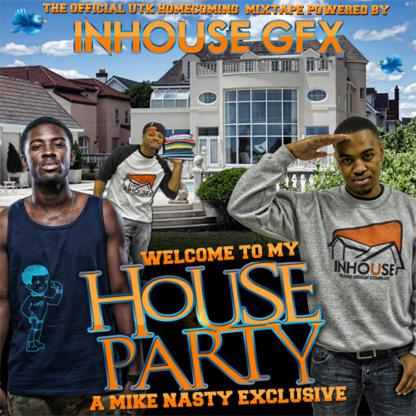face: (336, 134, 382, 194), (26, 125, 71, 183), (146, 128, 163, 150)
